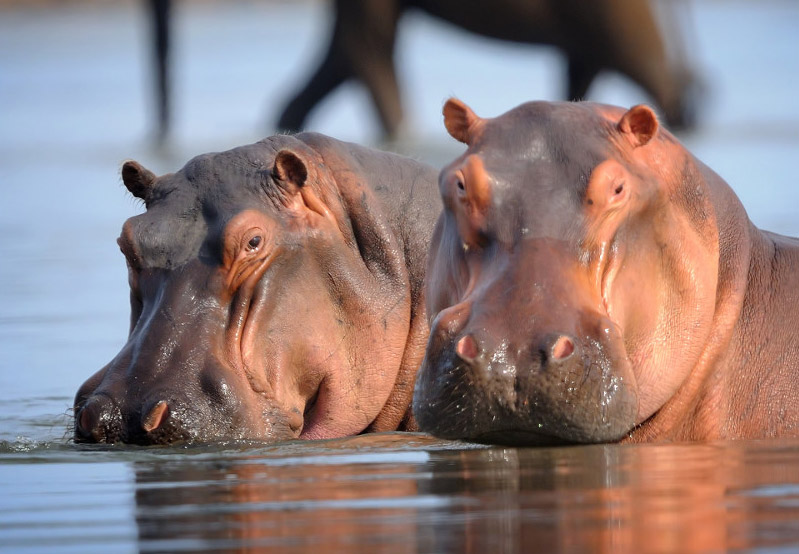Hippopotamus: (416, 93, 799, 447), (69, 131, 429, 455)
